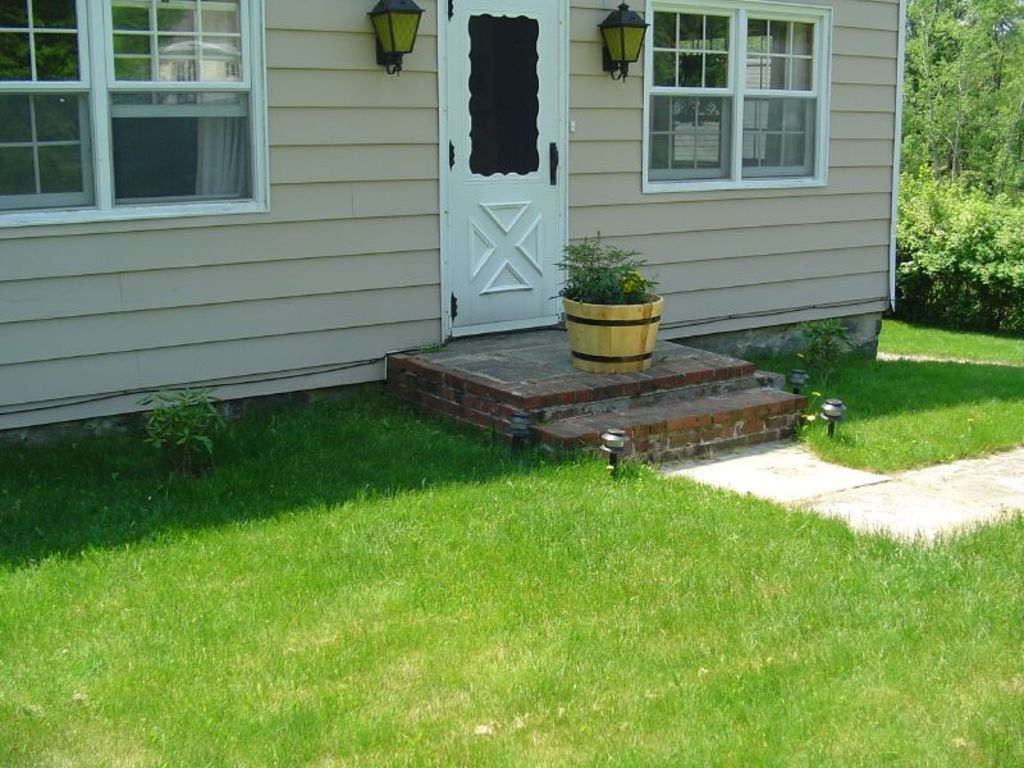Tree: (899, 0, 1023, 198)
